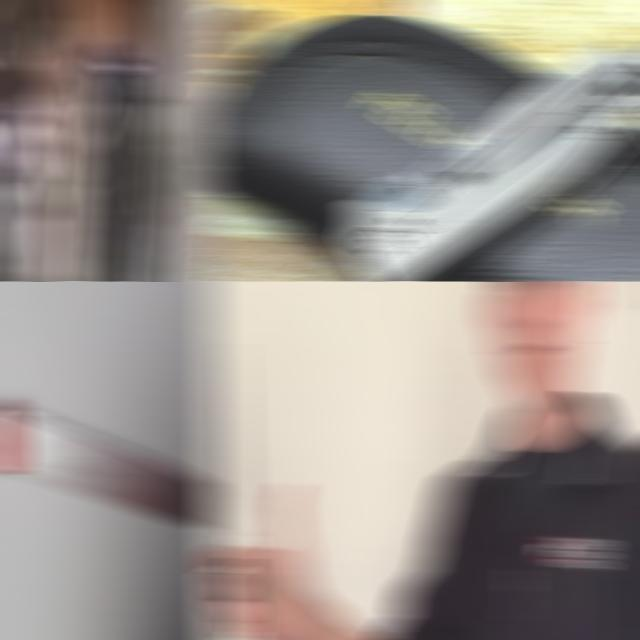Knife: (0, 403, 219, 529)
Knife_Handle: (203, 340, 314, 640), (0, 164, 21, 188)
